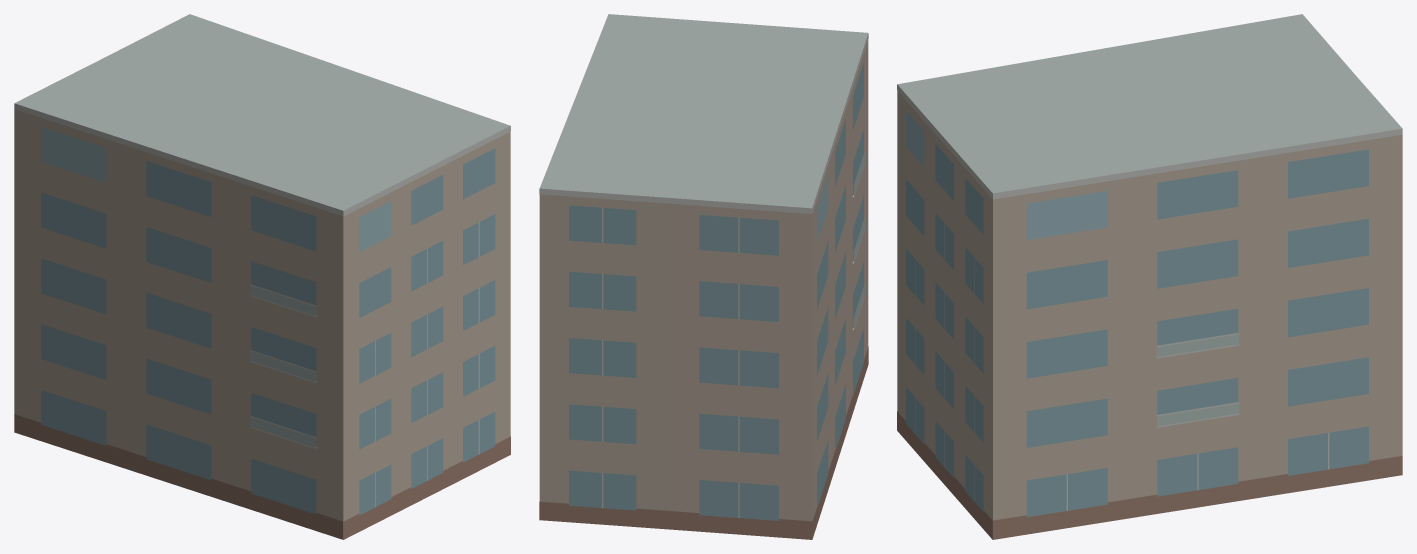
Rendered from survey-upis-32751714.glb.
The picture shows the model from 3 angles, left to right: view 1: azimuth 30°, elevation 25°; view 2: azimuth 150°, elevation 25°; view 3: azimuth 270°, elevation 25°; orthographic projection. The views are drawn at different scales.
Parts seen in each view (by area): view 1: survey-upis-32751714.tmp; view 2: survey-upis-32751714.tmp; view 3: survey-upis-32751714.tmp.
Part boxes in pixels (x1,y1,x2,y2): survey-upis-32751714.tmp: [14, 14, 510, 539]; survey-upis-32751714.tmp: [539, 14, 868, 539]; survey-upis-32751714.tmp: [897, 14, 1402, 539].
Bounding box in the file's own units: 15.62 × 14.05 × 18.59.
